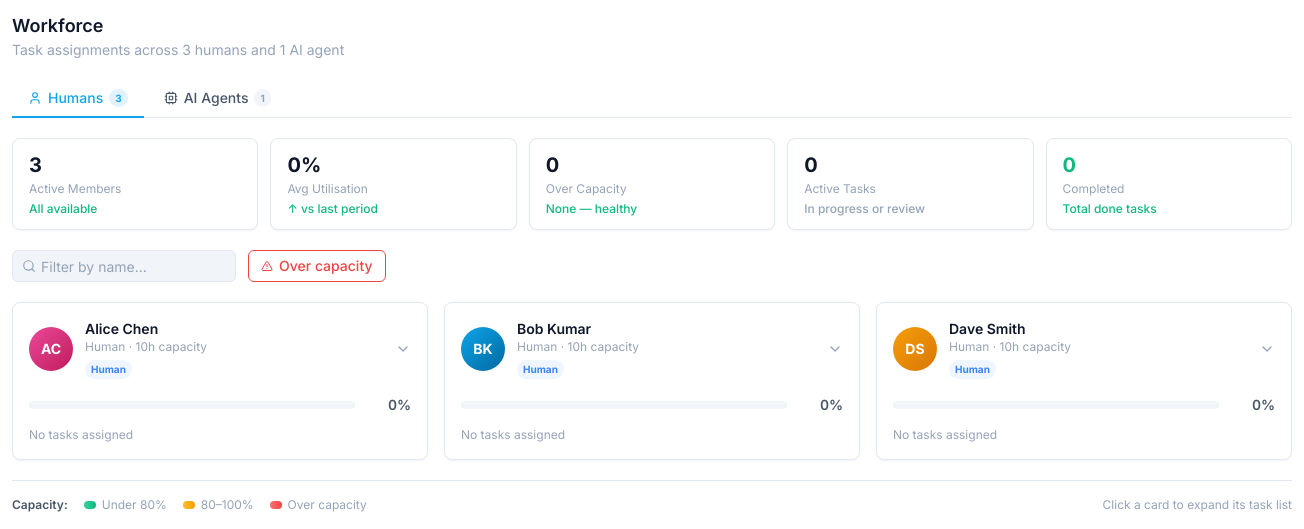
Test: WorkforcePage › filters resources by search input
Expected: the text "Alice Chen" is shown, [85,320,158,337]
Step 1. Type "nonexistent" into the field with placeholder "Filter by name…" → (124, 266), box [12,250,236,282]
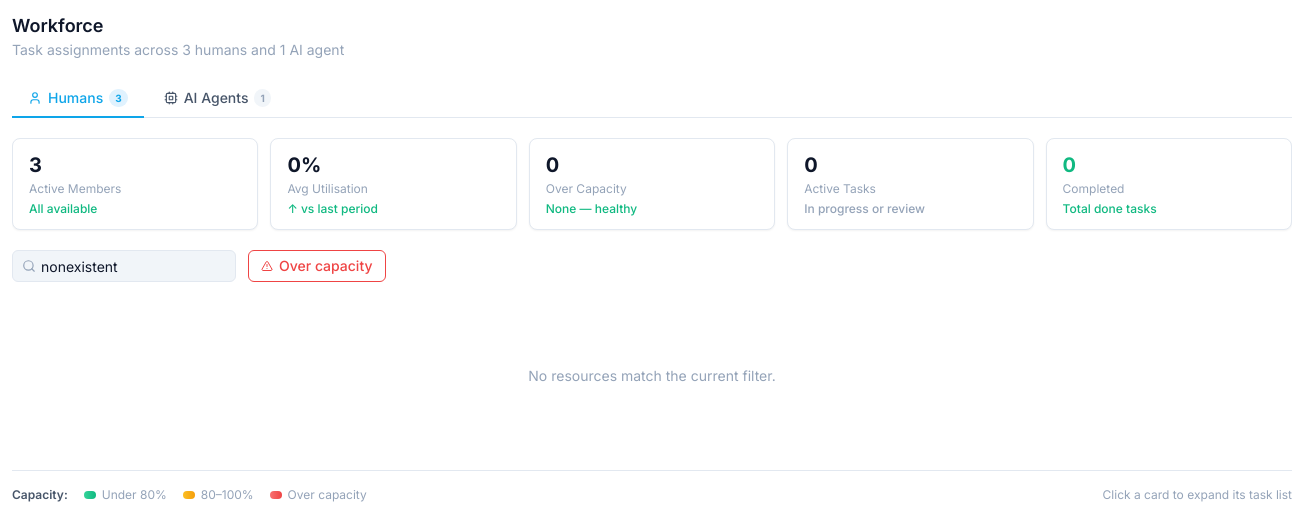
Now the button "Alice Chen" is gone
